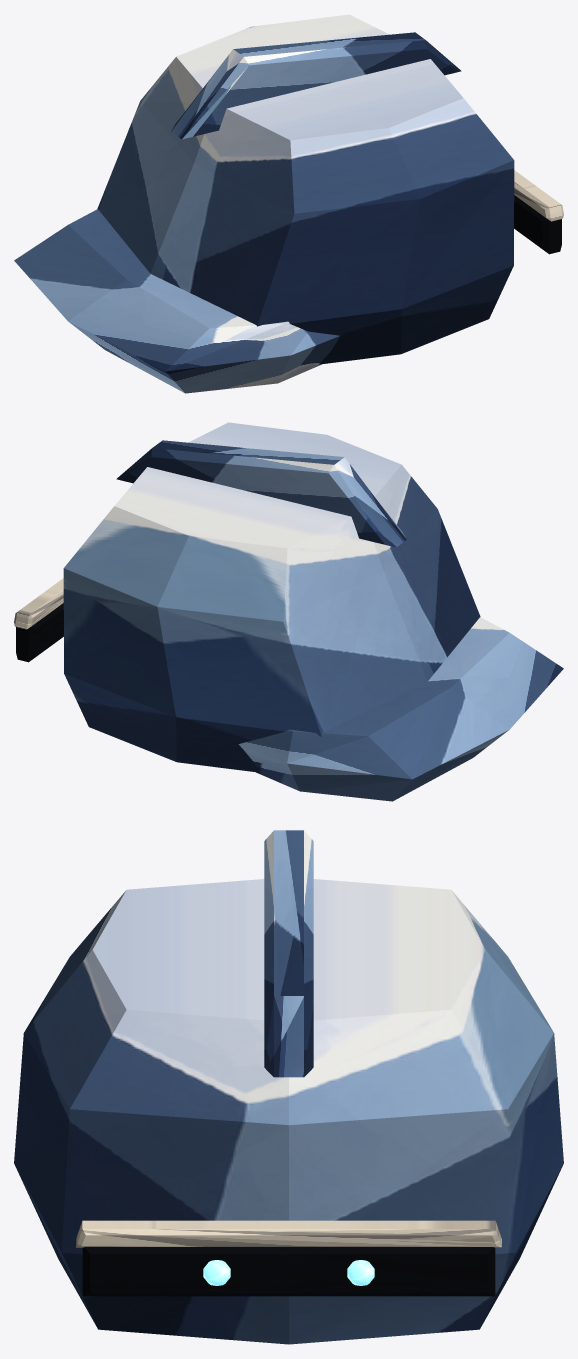
File: sallet.glb
3 views of the same model, one above another, from view 1: azimuth 30°, elevation 25°; view 2: azimuth 150°, elevation 25°; view 3: azimuth 270°, elevation 25° (orthographic). The views are drawn at different scales.
Visible parts, largest first — view 1: head; view 2: head; view 3: head.
Boxes of the visible parts, x1,y1,x2,y2 form: head: [14, 14, 563, 393]; head: [14, 422, 563, 801]; head: [14, 830, 563, 1344].
Bounding box in the file's own units: 0.587 × 0.3435 × 0.456.
Materials: 4 (4 with a texture image).
